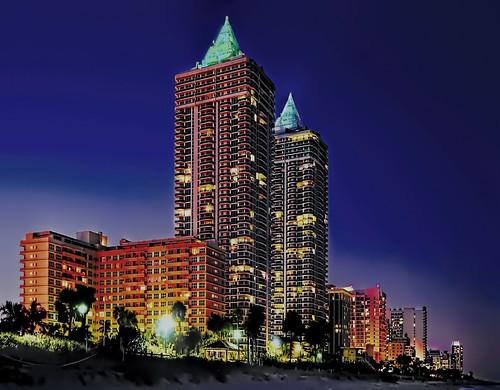building: (170, 31, 278, 358), (265, 129, 332, 363)
